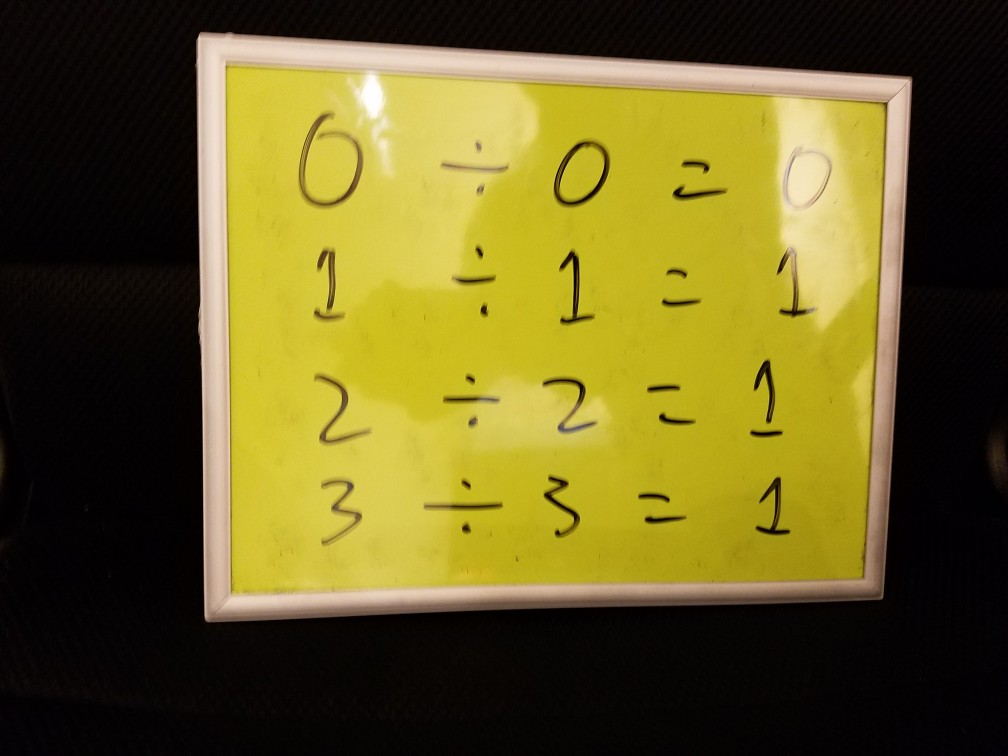0: (288, 98, 371, 211), (545, 128, 615, 215), (775, 135, 834, 218)
1: (736, 352, 793, 448), (547, 245, 607, 335), (766, 240, 824, 326), (305, 239, 358, 332), (746, 468, 803, 547)
2: (304, 362, 380, 452), (535, 368, 600, 442)
3: (304, 469, 369, 552), (536, 464, 583, 550)
=: (636, 370, 704, 438), (664, 146, 732, 209), (650, 254, 710, 318), (632, 481, 700, 536)
div: (411, 470, 511, 542), (445, 239, 509, 324), (438, 128, 512, 198), (438, 364, 504, 435)
